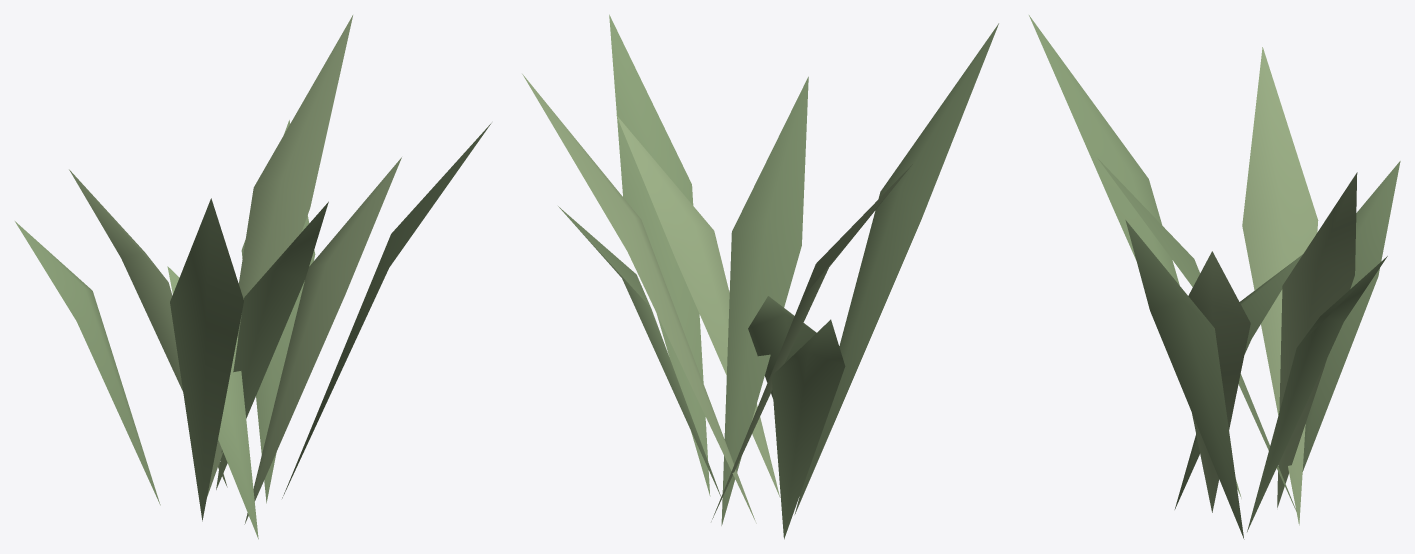
File: SM_Grass_02_UV_0287.fbx
3 renders of one model, left to right at view 1: azimuth 30°, elevation 25°; view 2: azimuth 150°, elevation 25°; view 3: azimuth 270°, elevation 25°, orthographic. The views are drawn at different scales.
Parts seen in each view (by area): view 1: SM_Grass_02_UV_0287; view 2: SM_Grass_02_UV_0287; view 3: SM_Grass_02_UV_0287.
Boxes of the visible parts, x1=… form: SM_Grass_02_UV_0287: x1=15, y1=15, x2=491, y2=539; SM_Grass_02_UV_0287: x1=522, y1=14, x2=998, y2=539; SM_Grass_02_UV_0287: x1=1029, y1=15, x2=1400, y2=539.
Size of the model in its own units: 51.12 by 44.35 by 57.56.
